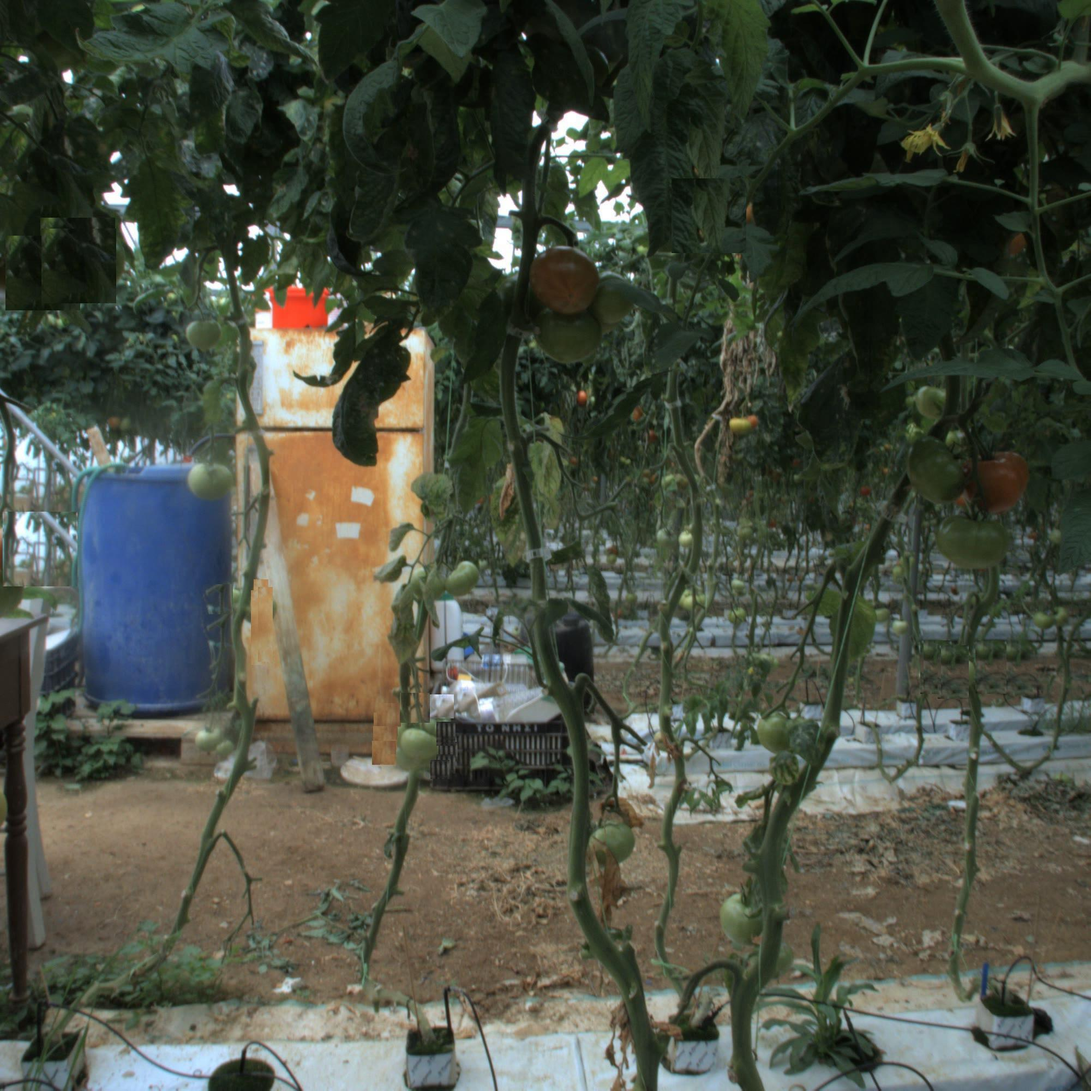fully-ripe: (968, 449, 1030, 511)
semi-ripe: (524, 241, 598, 315)
unripe: (937, 499, 1009, 571), (904, 435, 973, 503), (538, 302, 601, 364), (583, 271, 633, 321), (758, 704, 808, 754), (586, 817, 636, 867), (717, 894, 767, 944), (188, 456, 236, 504), (186, 318, 222, 354), (399, 727, 435, 763), (445, 560, 481, 596)
